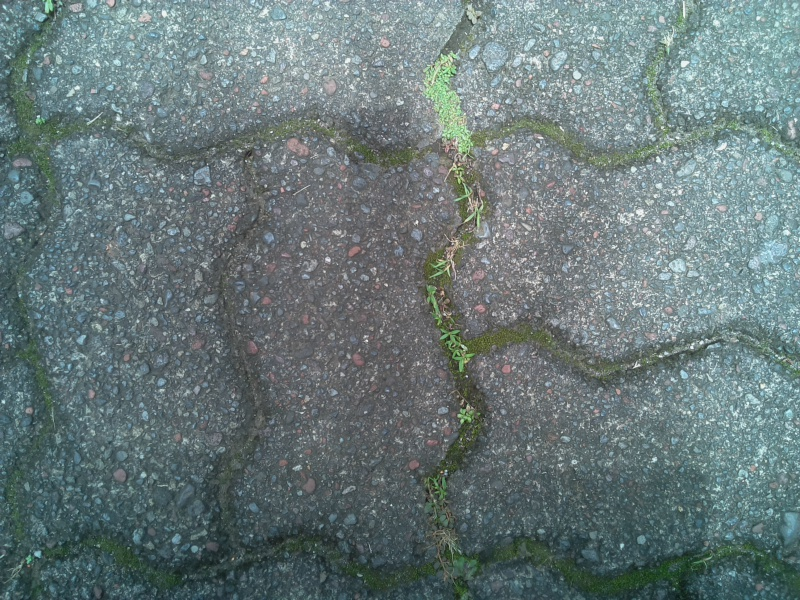Weed: (410, 46, 494, 156), (448, 164, 490, 234), (415, 469, 463, 525), (413, 278, 467, 327), (429, 327, 482, 376), (421, 239, 470, 279), (425, 523, 470, 562), (450, 400, 485, 432), (27, 109, 54, 136)
